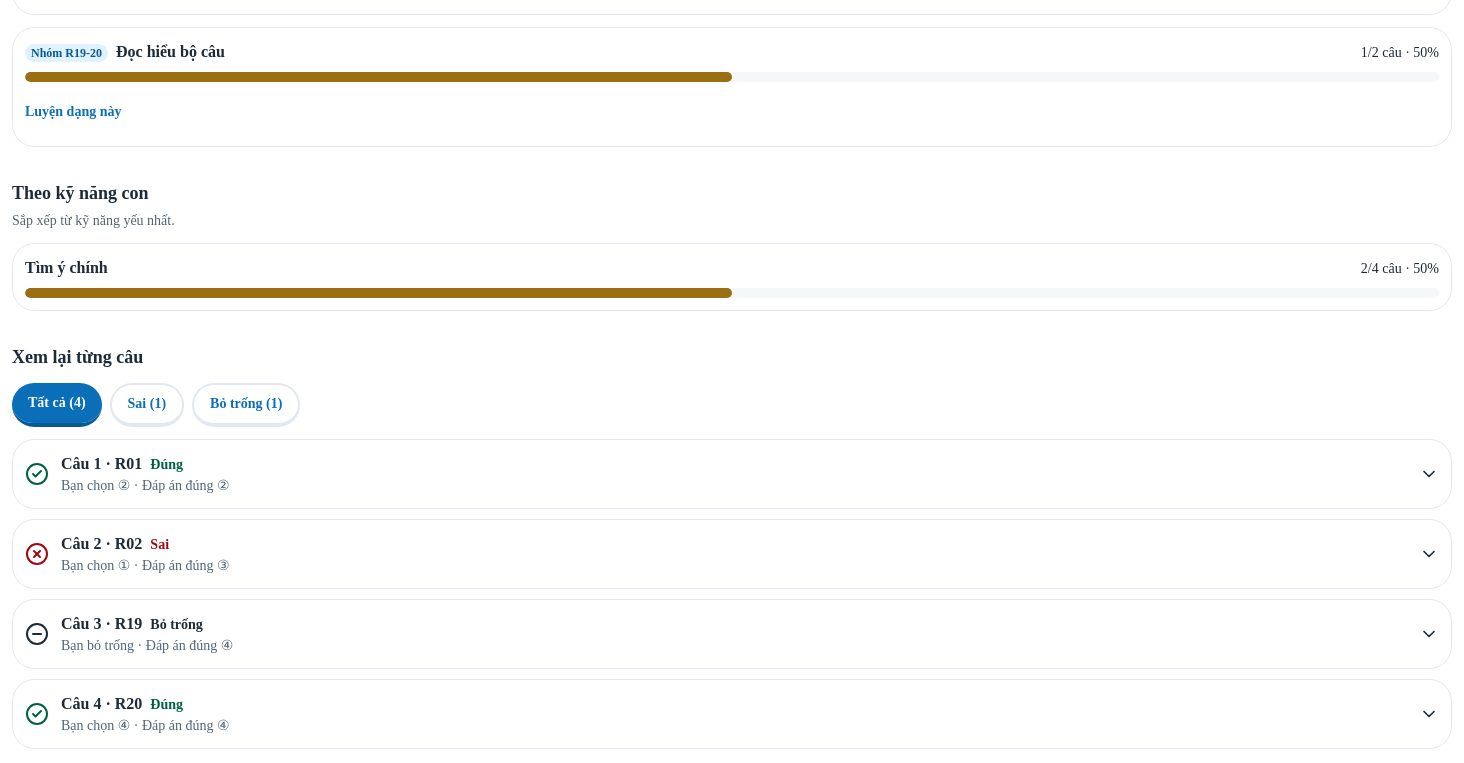
ExamResultView: xem lại câu › mở một câu sai: đáp án đúng, lựa chọn của bạn, ghi chú phương án nhiễu và lời giải
(page scrolled)
Click the button "Sai (1)" at (147, 405), box [110,383,184,427]
(page scrolled)
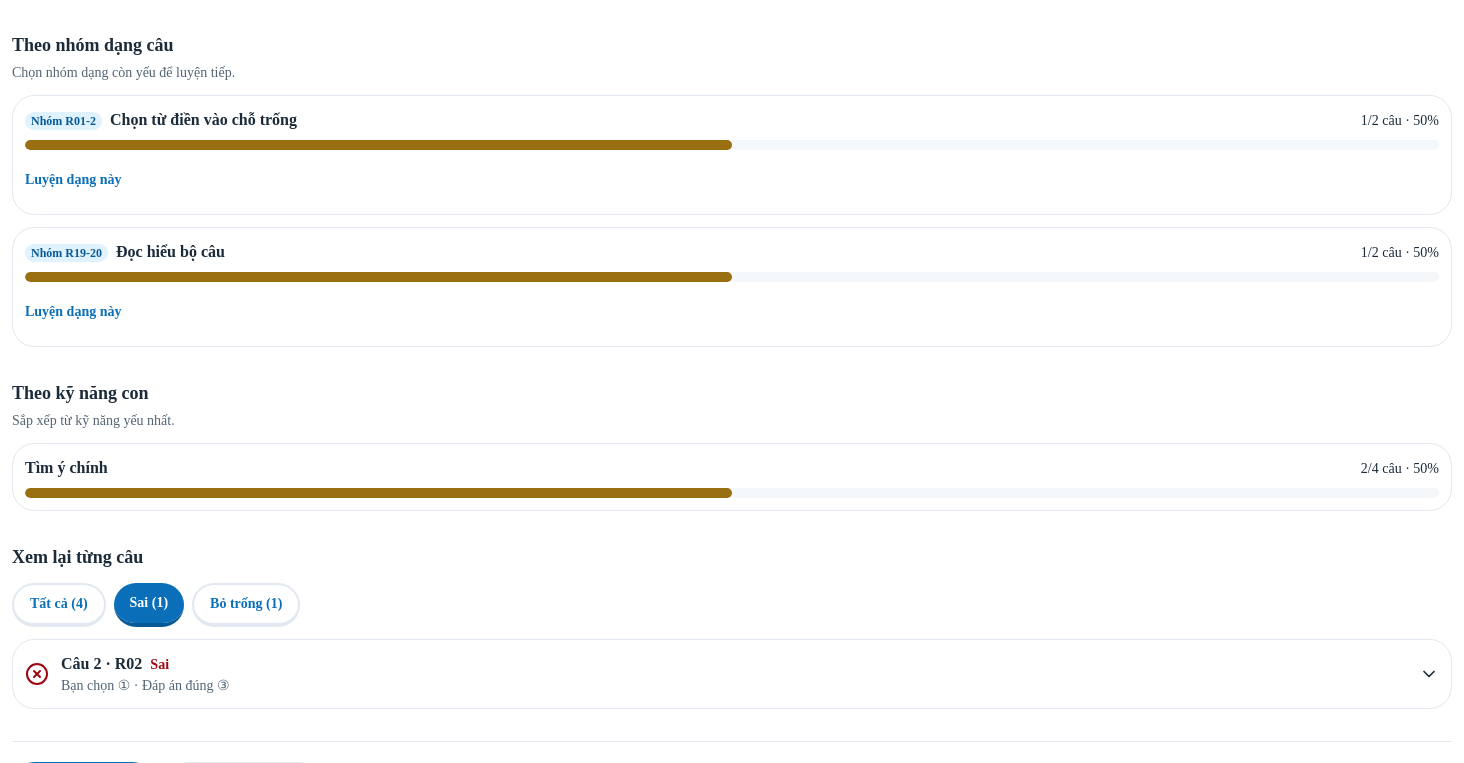
Click the button "Câu 2 · R02Sai Bạn chọn ① · Đáp án đúng ③" at (102, 664), box [13,640,1451,708]
(page scrolled)
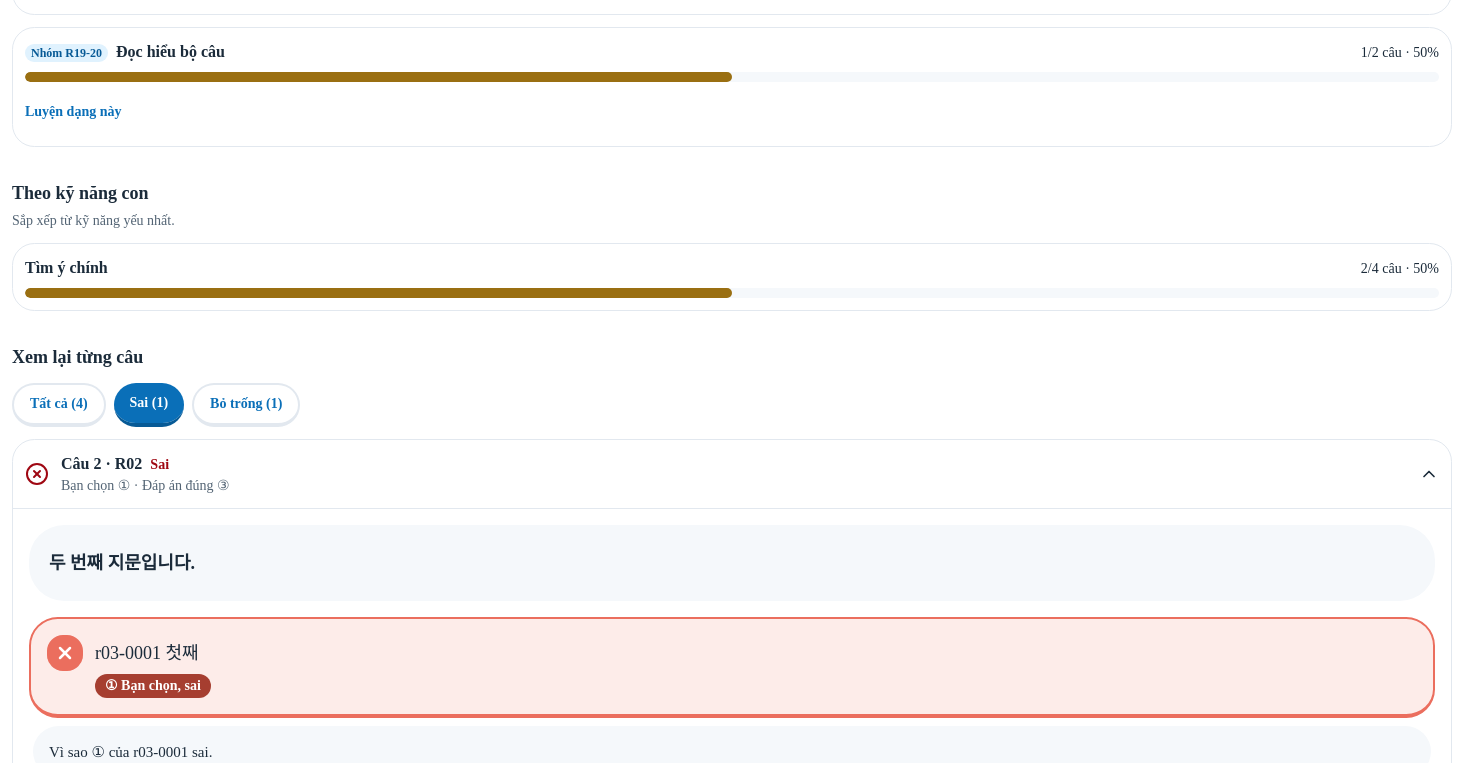
Expected: the button "Câu 2 · R02Sai Bạn chọn ① · Đáp án đúng ③" is expanded, [13,440,1451,508]
Expected: the text "Vì sao ① của r03-0001 sai." is shown, [49,744,212,760]
Expected: the radio button labelled "r03-0001 첫째 ① Bạn chọn, sai" is checked, [29,617,1435,718]
